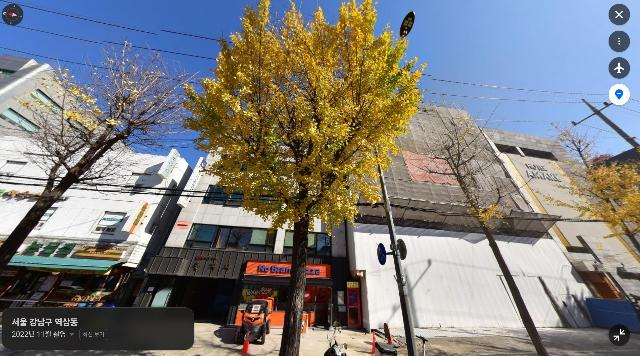ginkgo: (179, 0, 429, 356), (0, 36, 203, 282), (409, 98, 551, 356), (544, 120, 640, 301)
